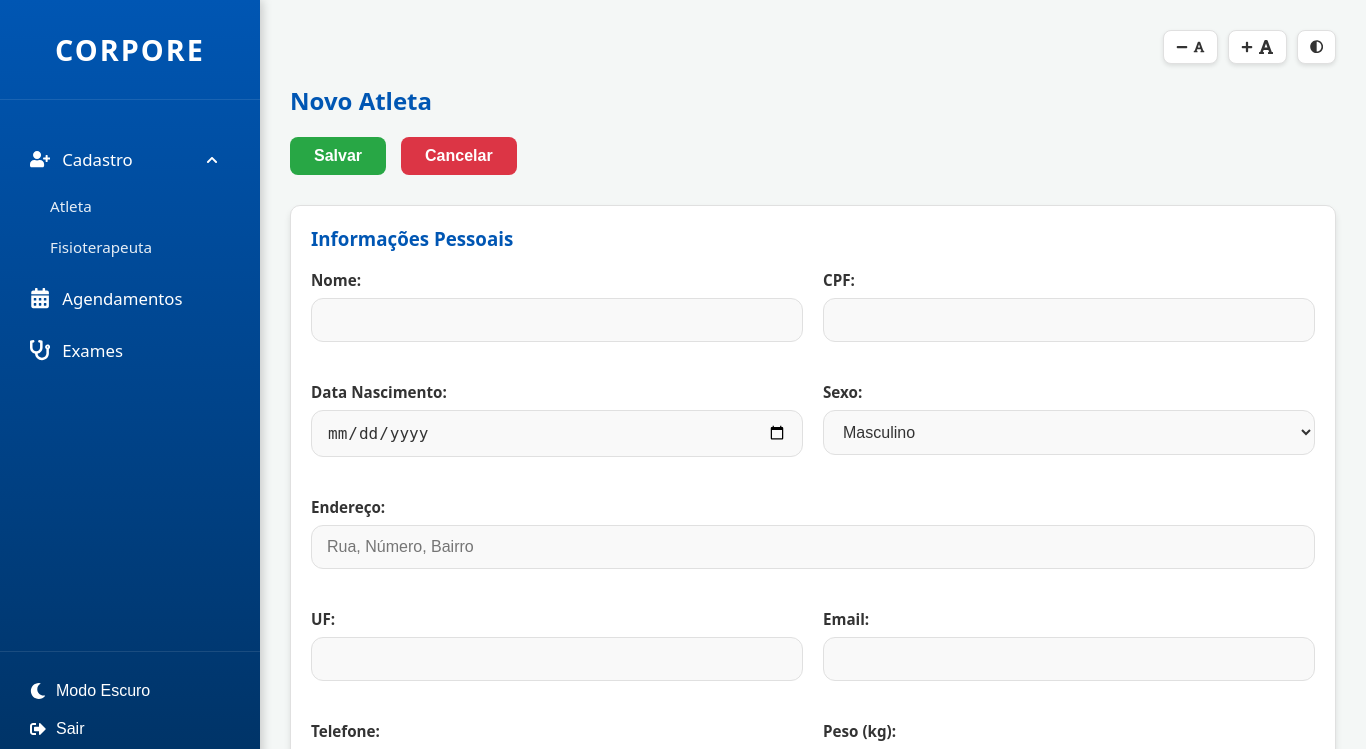
Test: Sistema Corpore - Testes E2E › Deve validar botão cancelar no formulário
What coordinates should you click on to do the following:
click the button "Cancelar"
I would click on:
 (459, 156)
Its box is [401,137,517,175].
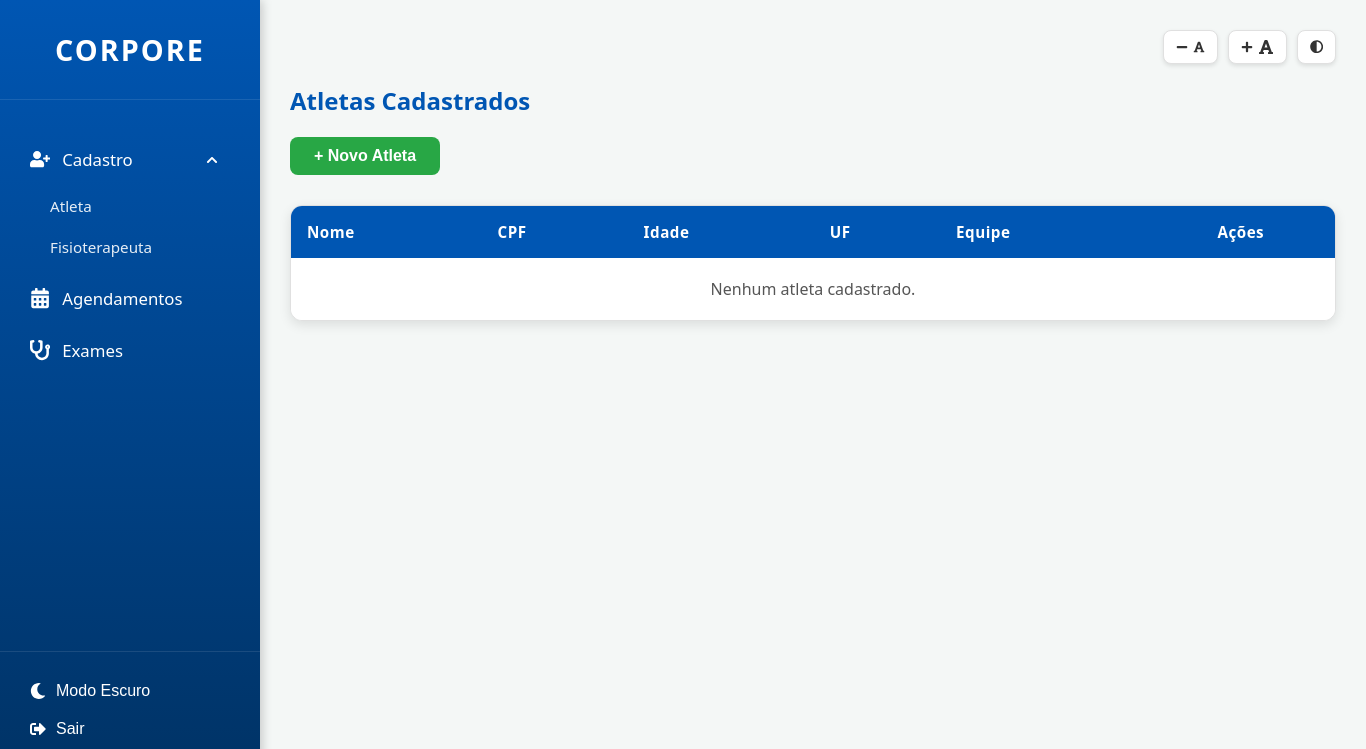
Now the heading "Atletas Cadastrados" is shown, box [290,84,530,117]
